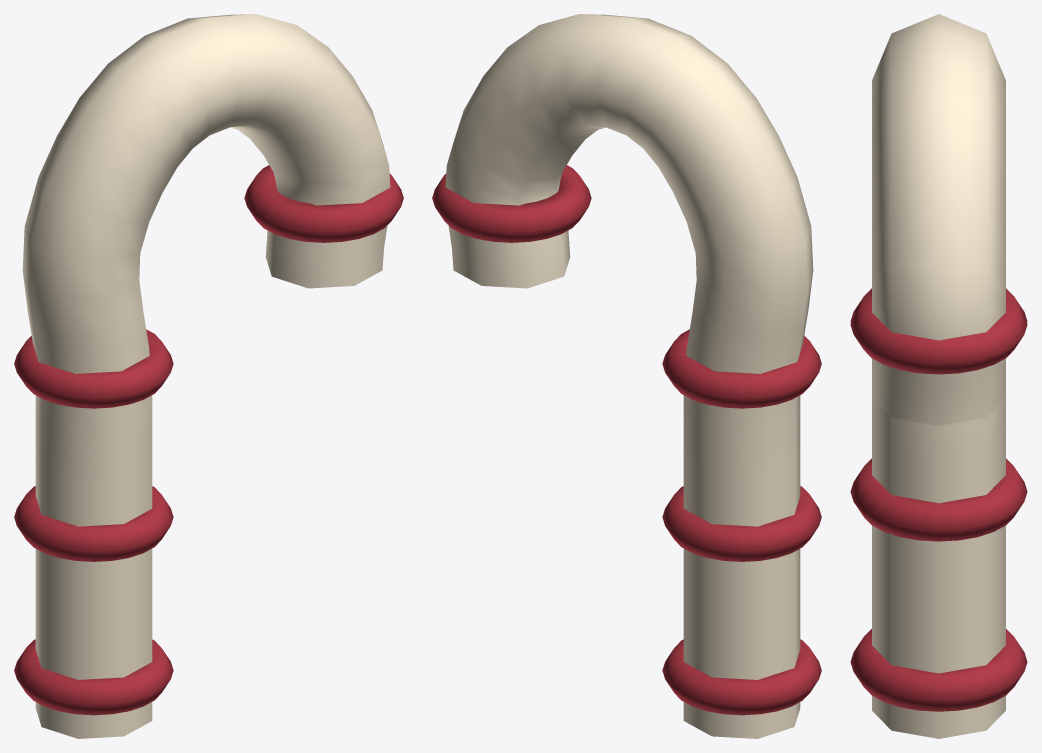
Rendered from candy.glb.
The picture shows the model from 3 angles, left to right: view 1: azimuth 30°, elevation 25°; view 2: azimuth 150°, elevation 25°; view 3: azimuth 270°, elevation 25°; orthographic projection. The views are drawn at different scales.
Visible parts, largest first — view 1: Candy cane, Tint.003, Tint.001, Tint, Tint.002; view 2: Candy cane, Tint.003, Tint.001, Tint, Tint.002; view 3: Candy cane, Tint.001, Tint, Tint.003.
Part boxes in pixels (x1,y1,x2,y2): Candy cane: [22, 14, 390, 738]; Tint.003: [244, 165, 403, 242]; Tint.001: [14, 486, 173, 561]; Tint: [14, 639, 173, 715]; Tint.002: [14, 329, 173, 408]; Candy cane: [445, 14, 813, 738]; Tint.003: [432, 165, 591, 242]; Tint.001: [662, 486, 821, 561]; Tint: [662, 639, 821, 715]; Tint.002: [662, 329, 821, 408]; Candy cane: [872, 14, 1005, 738]; Tint.001: [850, 458, 1027, 541]; Tint: [850, 629, 1027, 711]; Tint.003: [850, 291, 1027, 374].
Size of the model in its own units: 0.176 by 0.305 by 0.066.
